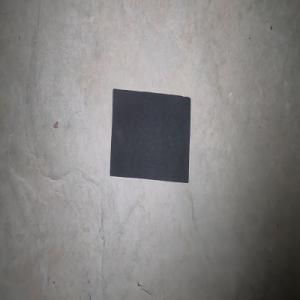PaintChip: (109, 88, 190, 183)
